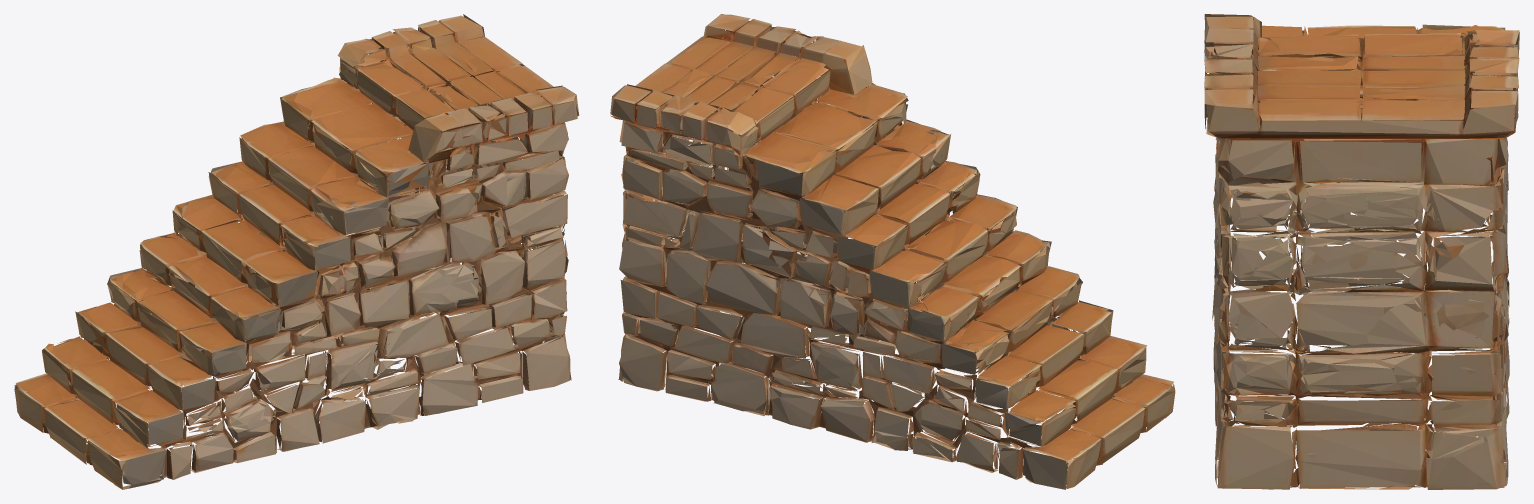
Rendered from staircase.glb.
3 renders of one model, left to right at view 1: azimuth 30°, elevation 25°; view 2: azimuth 150°, elevation 25°; view 3: azimuth 270°, elevation 25°, orthographic. The views are drawn at different scales.
Visible parts, largest first — view 1: material; view 2: material; view 3: material.
Boxes of the visible parts, bbox=[...] form: material: bbox=[14, 14, 579, 489]; material: bbox=[610, 14, 1175, 489]; material: bbox=[1204, 14, 1519, 489].
Bounding box in the file's own units: 1.53 × 0.9192 × 0.6728.
Materials: 1 (1 with a texture image).
